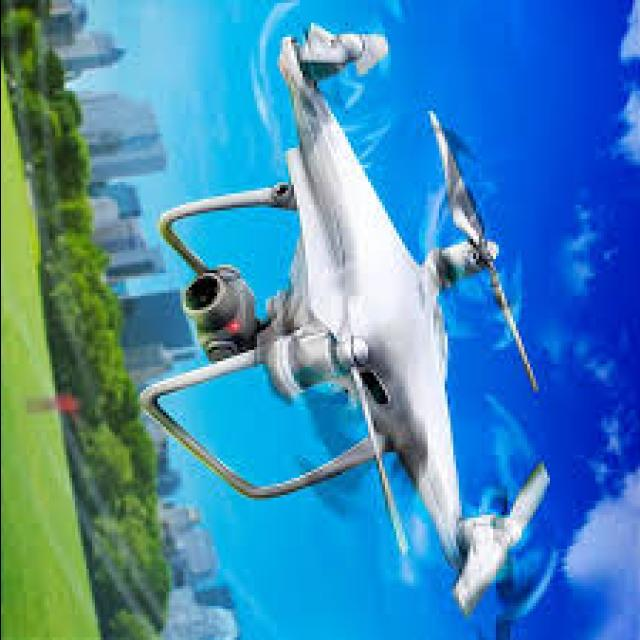drone: (126, 15, 560, 640)
